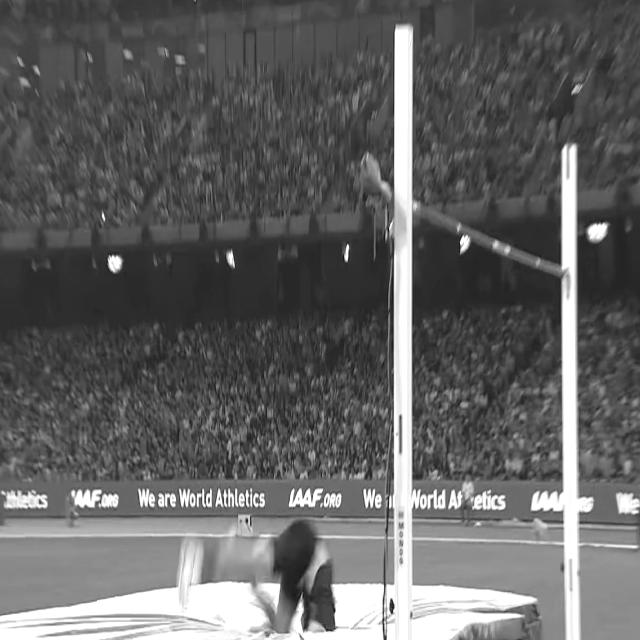land: (176, 522, 334, 629)
